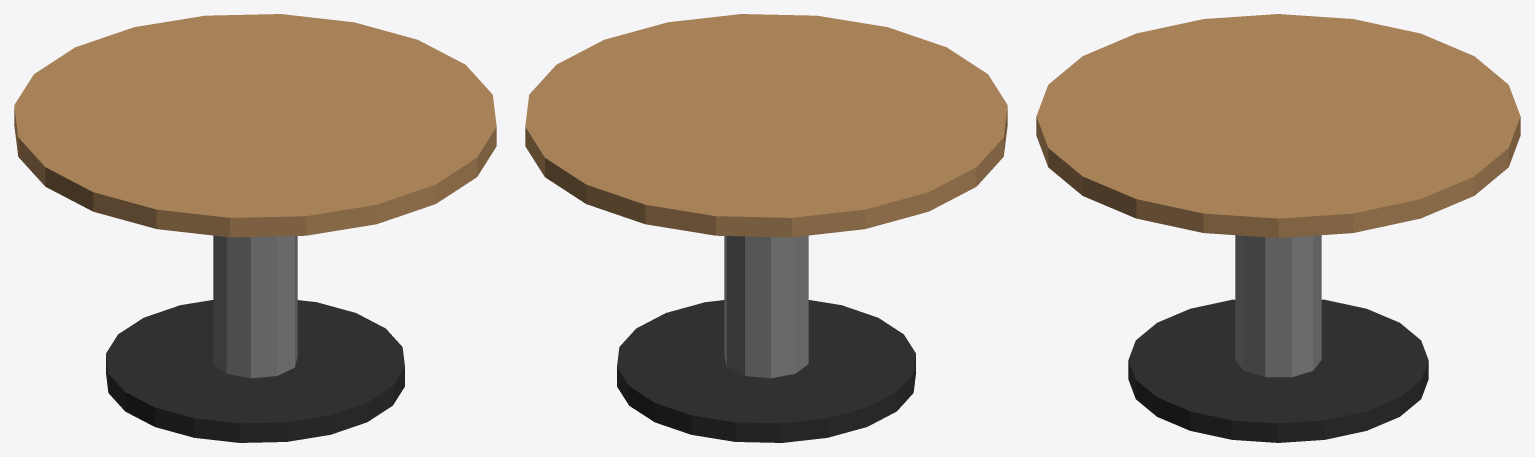
3 renders of one model, left to right at view 1: azimuth 30°, elevation 25°; view 2: azimuth 150°, elevation 25°; view 3: azimuth 270°, elevation 25°, orthographic.
Visible parts, largest first — view 1: mesa_kids; view 2: mesa_kids; view 3: mesa_kids.
Boxes of the visible parts, x1,y1,x2,y2 form: mesa_kids: [14, 14, 496, 442]; mesa_kids: [525, 14, 1007, 442]; mesa_kids: [1036, 14, 1520, 442].
Size of the model in its own units: 0.9 by 0.9 by 0.54.
